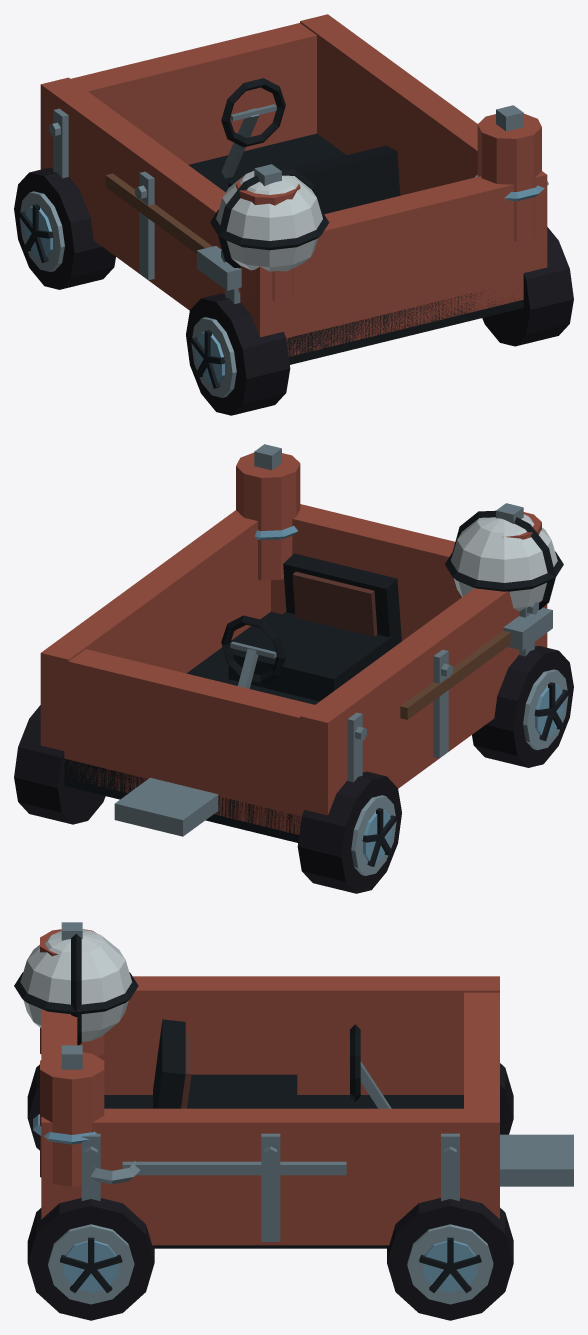
File: kart.glb
The picture shows the model from 3 angles, top to bottom: view 1: azimuth 30°, elevation 25°; view 2: azimuth 150°, elevation 25°; view 3: azimuth 270°, elevation 25°; orthographic projection. The views are drawn at different scales.
Visible parts, largest first — view 1: identity-minecart-minecart-riveted-open-bin, wheel-rear-left, identity-minecart-motif-ball, wheel-front-left, identity-minecart-motif-tanks, identity-minecart-driver-cockpit, wheel-rear-right, identity-minecart-motif-tools; view 2: identity-minecart-minecart-riveted-open-bin, identity-minecart-driver-cockpit, wheel-front-left, wheel-rear-left, identity-minecart-motif-ball, identity-minecart-motif-tanks, wheel-front-right, identity-minecart-motif-tools; view 3: identity-minecart-minecart-riveted-open-bin, wheel-rear-right, wheel-front-right, identity-minecart-motif-ball, identity-minecart-driver-cockpit, identity-minecart-motif-tanks, identity-minecart-motif-tools, wheel-front-left, wheel-rear-left.
Boxes of the visible parts, x1,y1,x2,y2 form: identity-minecart-minecart-riveted-open-bin: (40,14,547,364); wheel-rear-left: (186,293,290,415); identity-minecart-motif-ball: (210,169,329,271); wheel-front-left: (14,167,115,289); identity-minecart-motif-tanks: (236,105,548,300); identity-minecart-driver-cockpit: (221,78,400,214); wheel-rear-right: (482,227,573,346); identity-minecart-motif-tools: (105,173,241,290); identity-minecart-minecart-riveted-open-bin: (40,504,547,842); identity-minecart-driver-cockpit: (221,553,401,701); wheel-front-left: (297,771,401,893); wheel-rear-left: (472,645,573,767); identity-minecart-motif-ball: (445,510,563,611); identity-minecart-motif-tanks: (236,444,541,580); wheel-front-right: (14,705,105,824); identity-minecart-motif-tools: (400,607,552,719); identity-minecart-minecart-riveted-open-bin: (41,976,573,1248); wheel-rear-right: (27,1198,154,1320); wheel-front-right: (387,1198,513,1320); identity-minecart-motif-ball: (14,930,138,1045); identity-minecart-driver-cockpit: (153,1019,391,1108); identity-minecart-motif-tanks: (33,922,104,1186); identity-minecart-motif-tools: (84,1160,346,1184); wheel-front-left: (500,1063,513,1134); wheel-rear-left: (27,1064,39,1150).
Size of the model in its own units: 1.99 by 1.3 by 2.65.
